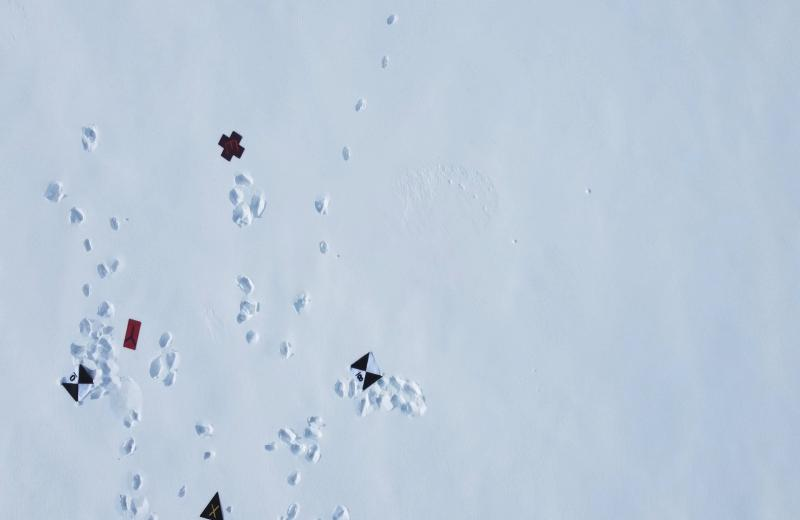Cross: (215, 126, 248, 166)
Rectangle: (120, 315, 146, 355)
Triangle: (192, 484, 232, 520)
